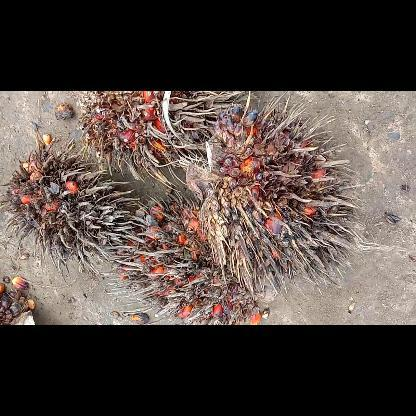Terlalu masak: (181, 99, 367, 307), (98, 186, 284, 324), (0, 135, 147, 288), (76, 92, 258, 198)
